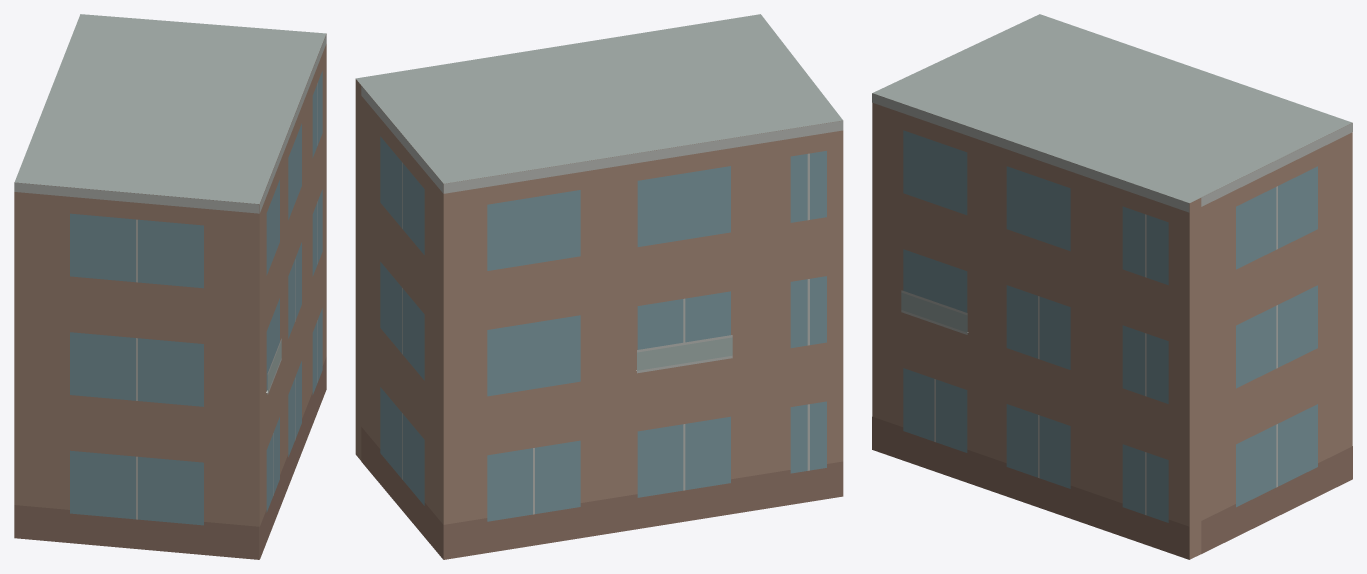
File: survey-upis-33001759.glb
3 renders of one model, left to right at view 1: azimuth 30°, elevation 25°; view 2: azimuth 150°, elevation 25°; view 3: azimuth 270°, elevation 25°, orthographic. The views are drawn at different scales.
Visible parts, largest first — view 1: survey-upis-33001759.tmp; view 2: survey-upis-33001759.tmp; view 3: survey-upis-33001759.tmp.
Part boxes in pixels (x1,y1,x2,y2): survey-upis-33001759.tmp: (14, 14, 326, 559); survey-upis-33001759.tmp: (355, 14, 843, 559); survey-upis-33001759.tmp: (872, 14, 1352, 559).
Size of the model in its own units: 10.42 by 9.15 by 11.18.
